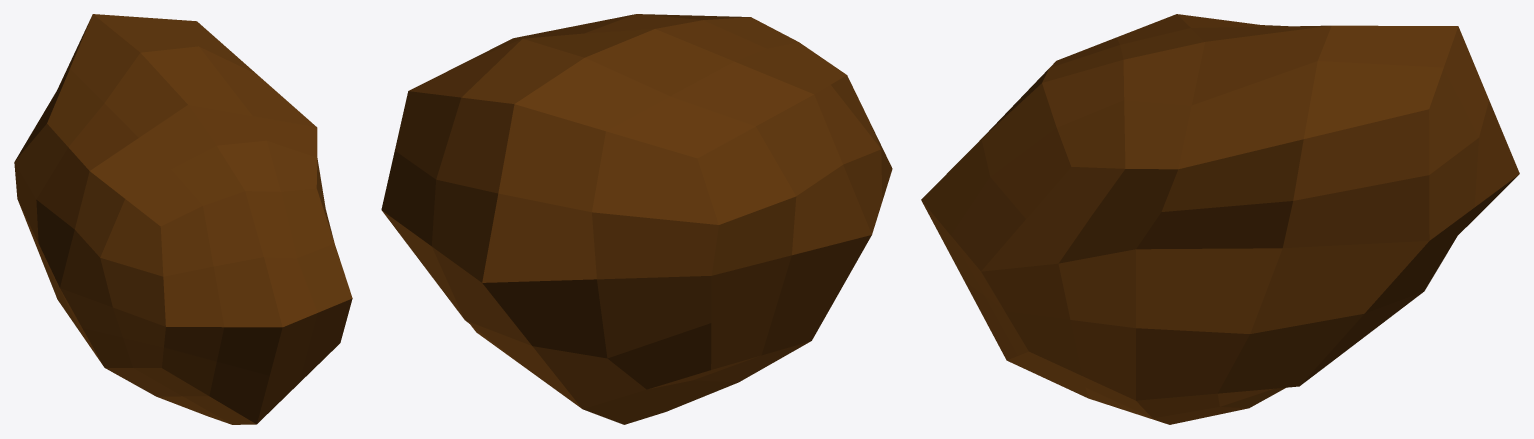
The model's file is asteroid_2.fbx.
The picture shows the model from 3 angles, left to right: view 1: azimuth 30°, elevation 25°; view 2: azimuth 150°, elevation 25°; view 3: azimuth 270°, elevation 25°; orthographic projection. The views are drawn at different scales.
Visible parts, largest first — view 1: Asteroid; view 2: Asteroid; view 3: Asteroid.
Part boxes in pixels (bbox=[...]): Asteroid: bbox=[14, 14, 352, 424]; Asteroid: bbox=[381, 14, 892, 424]; Asteroid: bbox=[921, 14, 1519, 424].
Bounding box in the file's own units: 845 × 941 × 1280.
